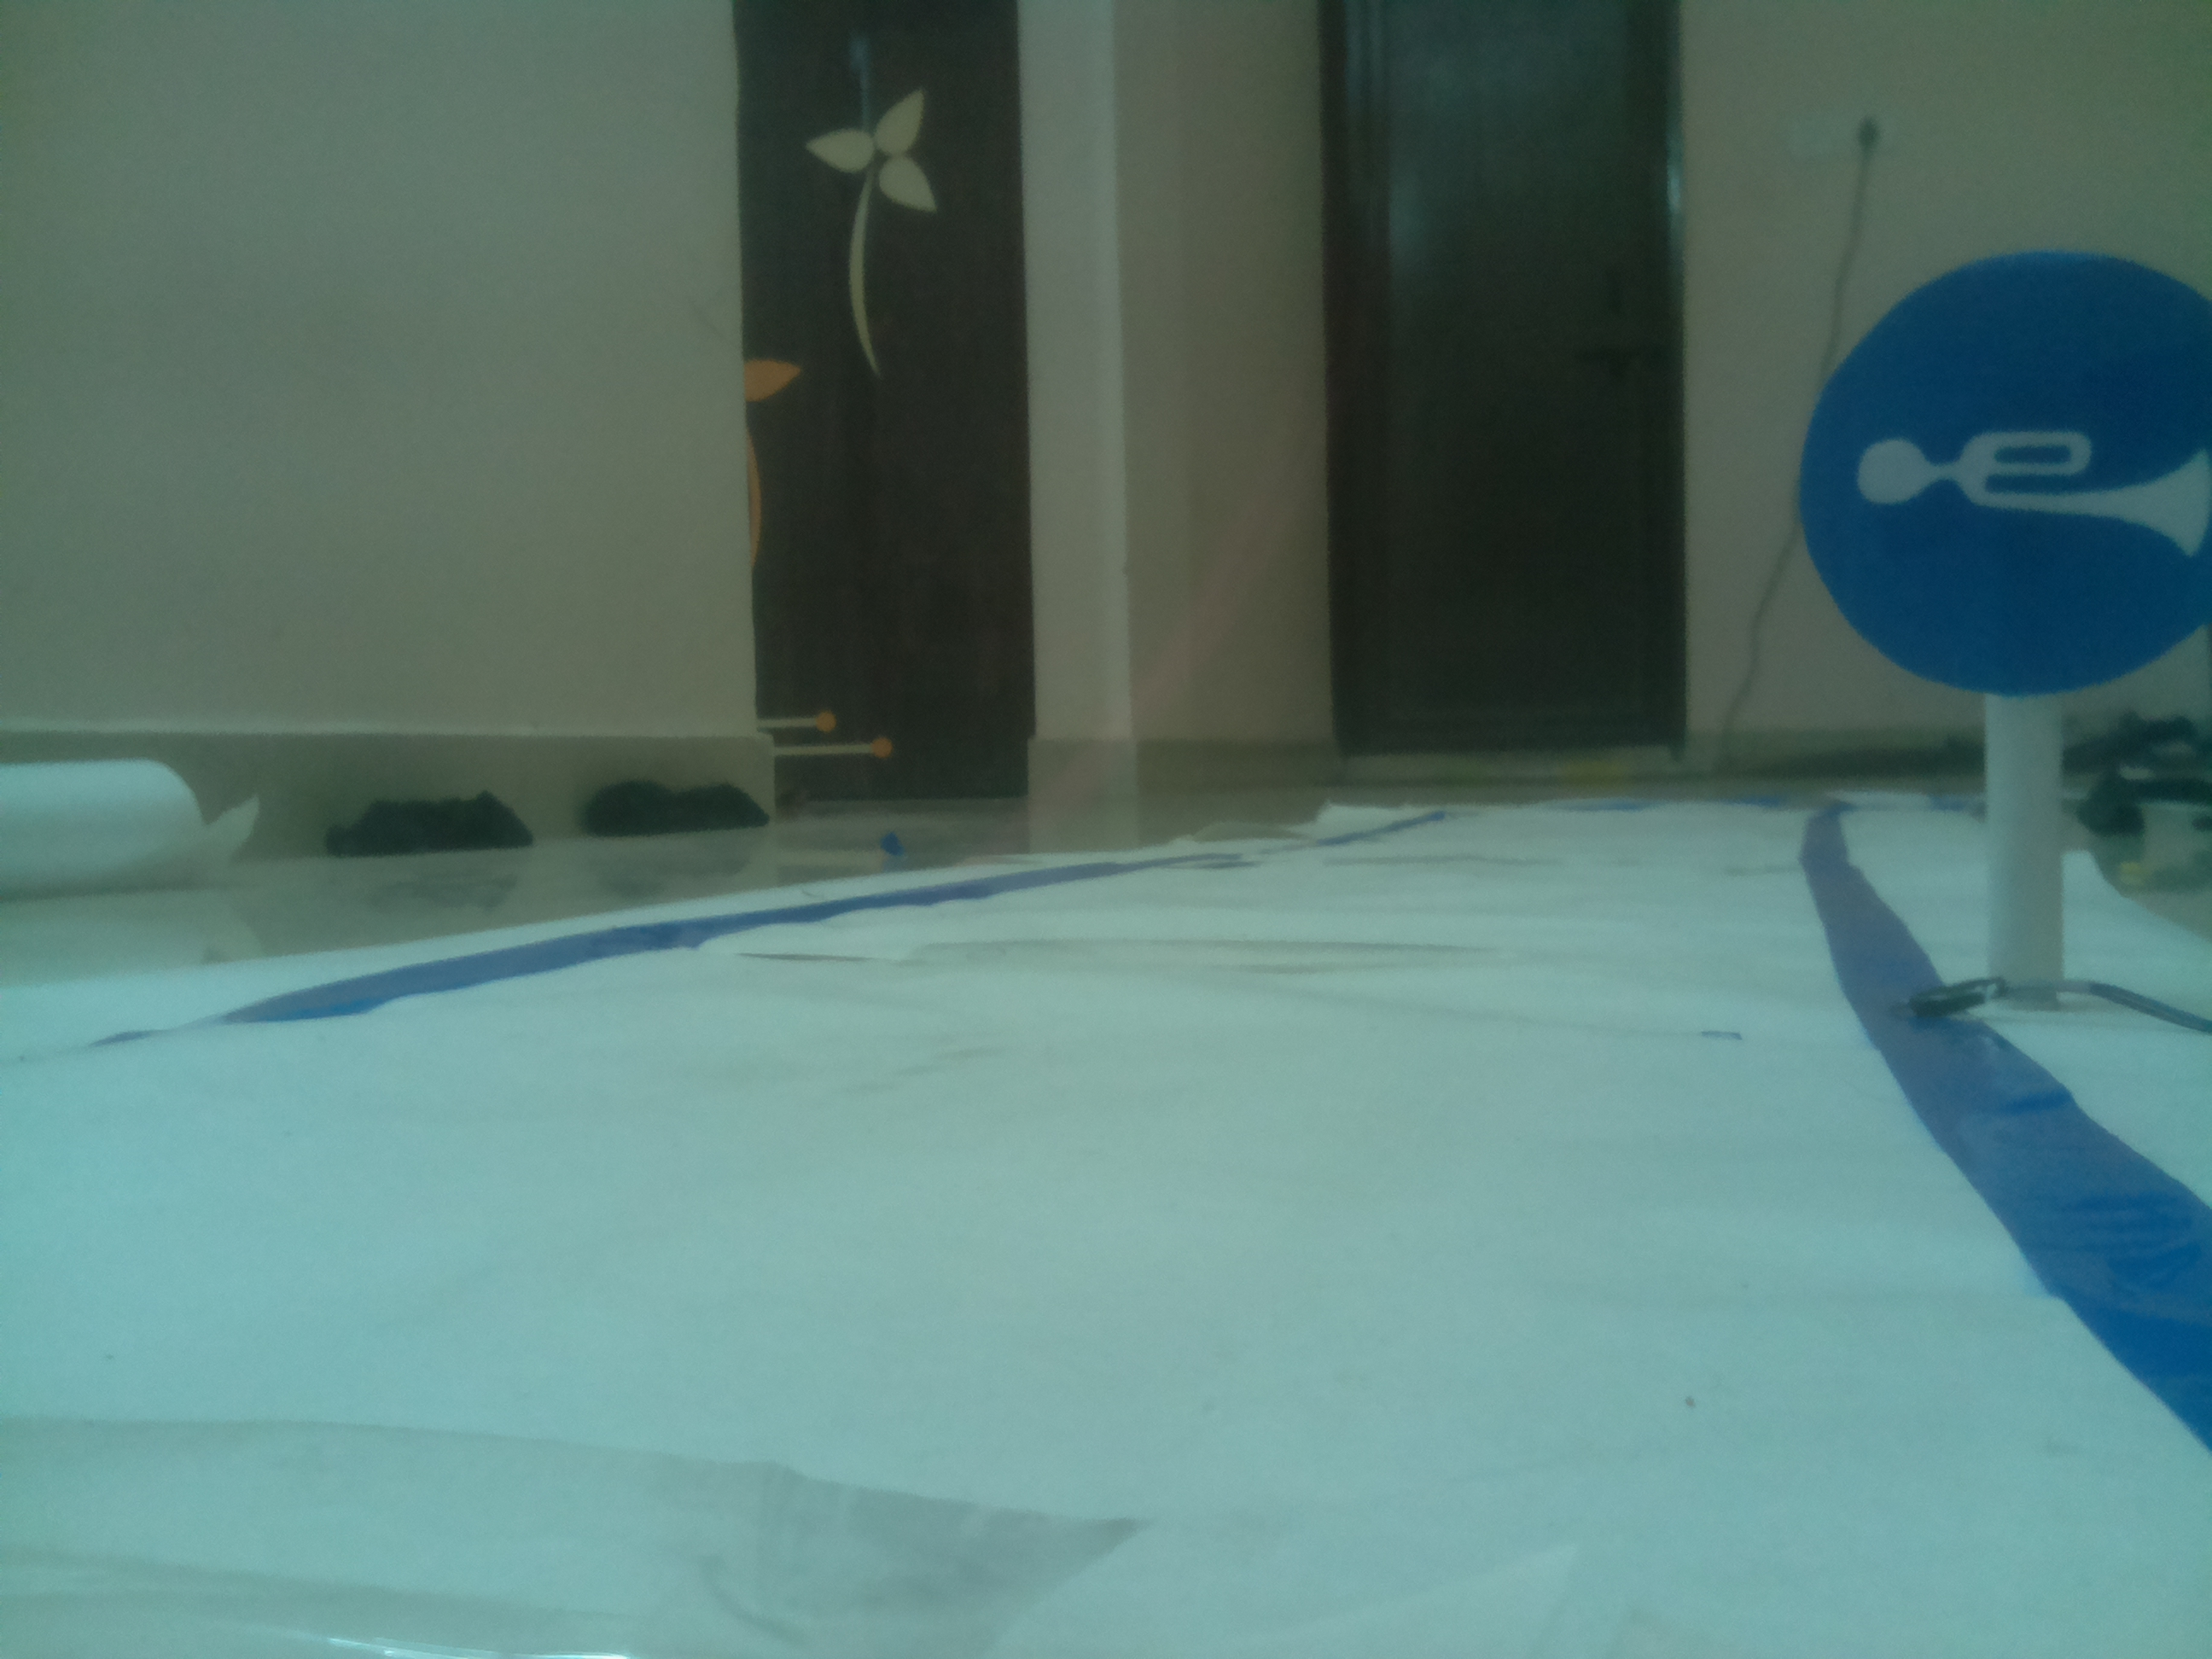blow-horn: (1794, 249, 2212, 697)
